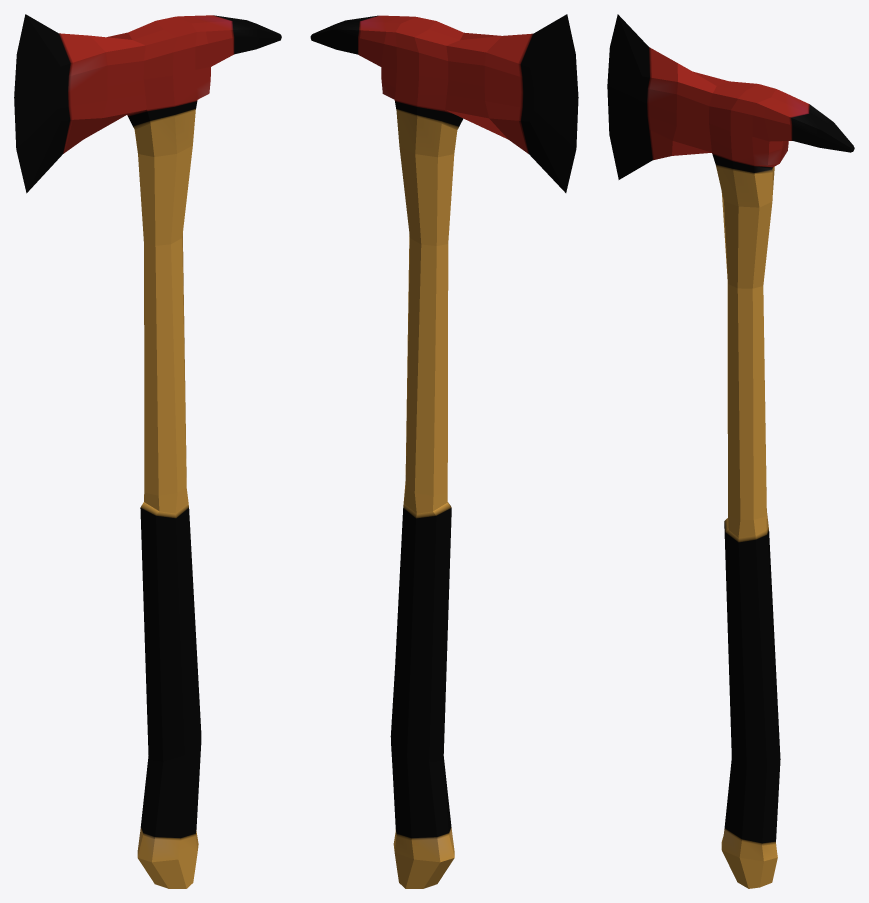
File: Siekierka.fbx
3 renders of one model, left to right at view 1: azimuth 30°, elevation 25°; view 2: azimuth 150°, elevation 25°; view 3: azimuth 330°, elevation 25°, orthographic. The views are drawn at different scales.
Visible parts, largest first — view 1: Cube; view 2: Cube; view 3: Cube.
Boxes of the visible parts, x1,y1,x2,y2 form: Cube: [14, 14, 281, 888]; Cube: [310, 14, 578, 888]; Cube: [607, 14, 854, 888].
Bounding box in the file's own units: 1237 × 3998 × 205.
